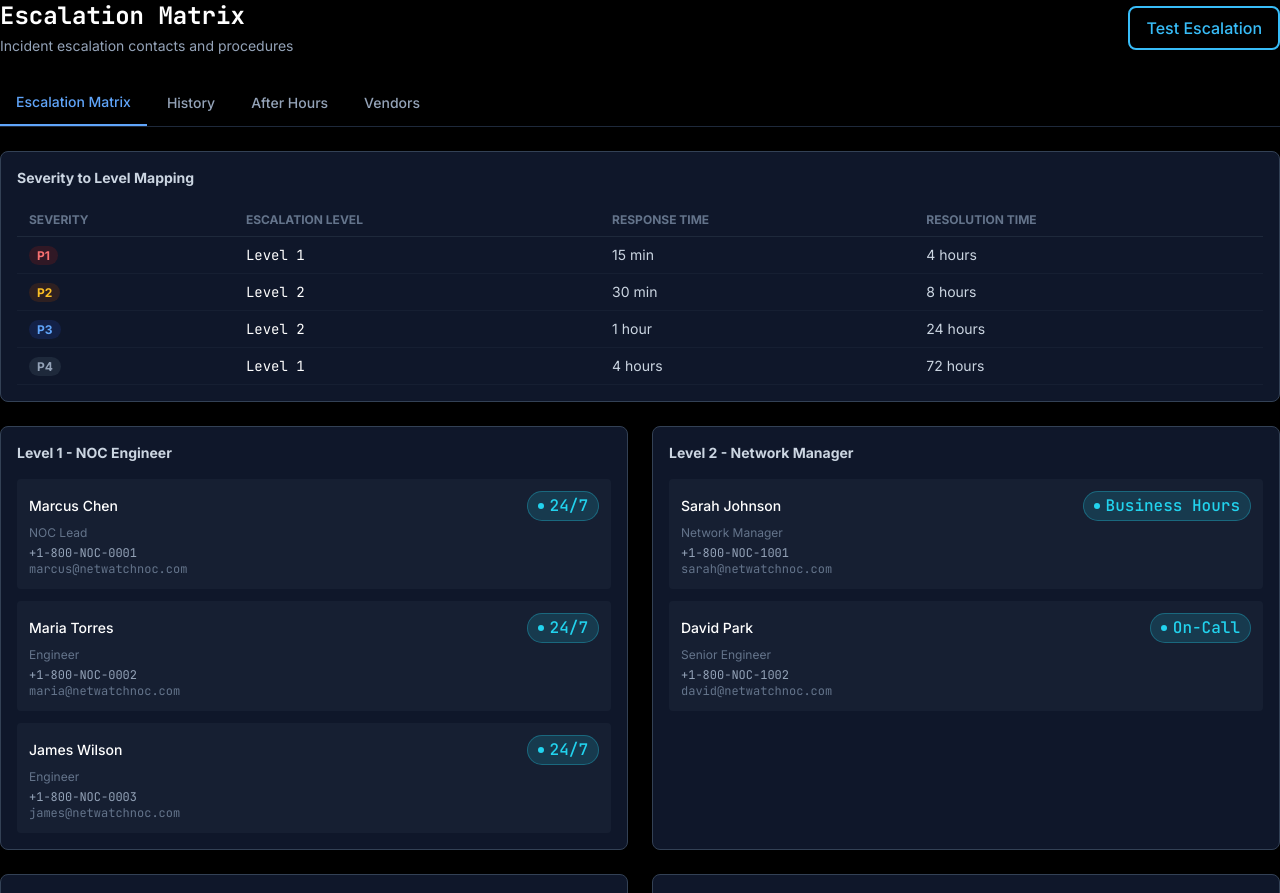
Test case: EscalationPage › switches to History tab
What coordinates should you click on to do the following:
click the button "History"
I would click on:
 (191, 103)
Its box is [151,80,231,126].
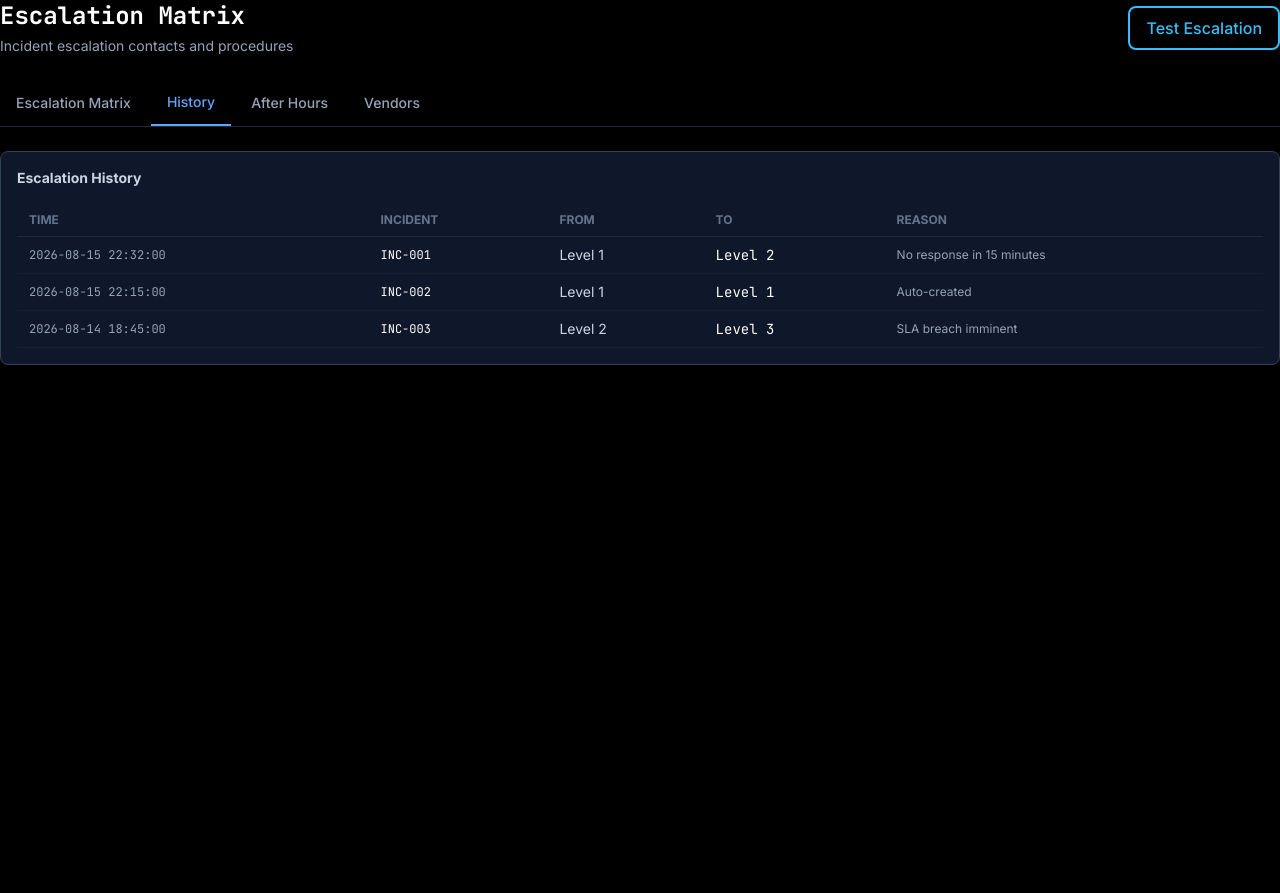
Expected: the heading "Escalation History" is shown, [17,169,141,186]
Expected: the text "INC-001" is shown, [368,236,548,274]
Expected: the text "INC-002" is shown, [368,274,548,310]
